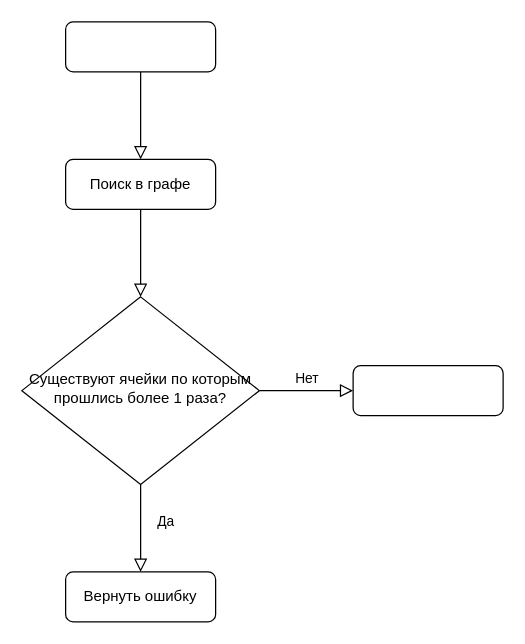
Image size: 525x644. Some labels were removed from this diagram. Here are the shapes that lost their labels. From the top down, the box of each, then its label:
(64, 21, 216, 72): Добавить ячейку
(352, 364, 503, 416): Продолжить программу
